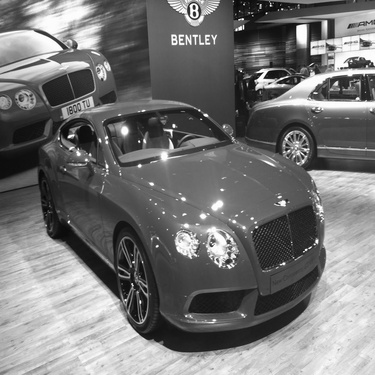car: (39, 90, 334, 348), (1, 18, 147, 144), (238, 69, 375, 156), (258, 71, 320, 100), (241, 64, 326, 81)
